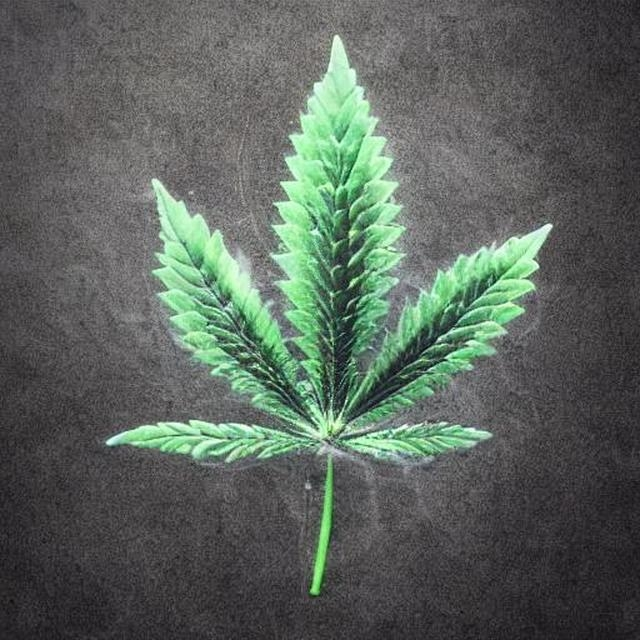Marijuana Leaf: (103, 32, 554, 596)
